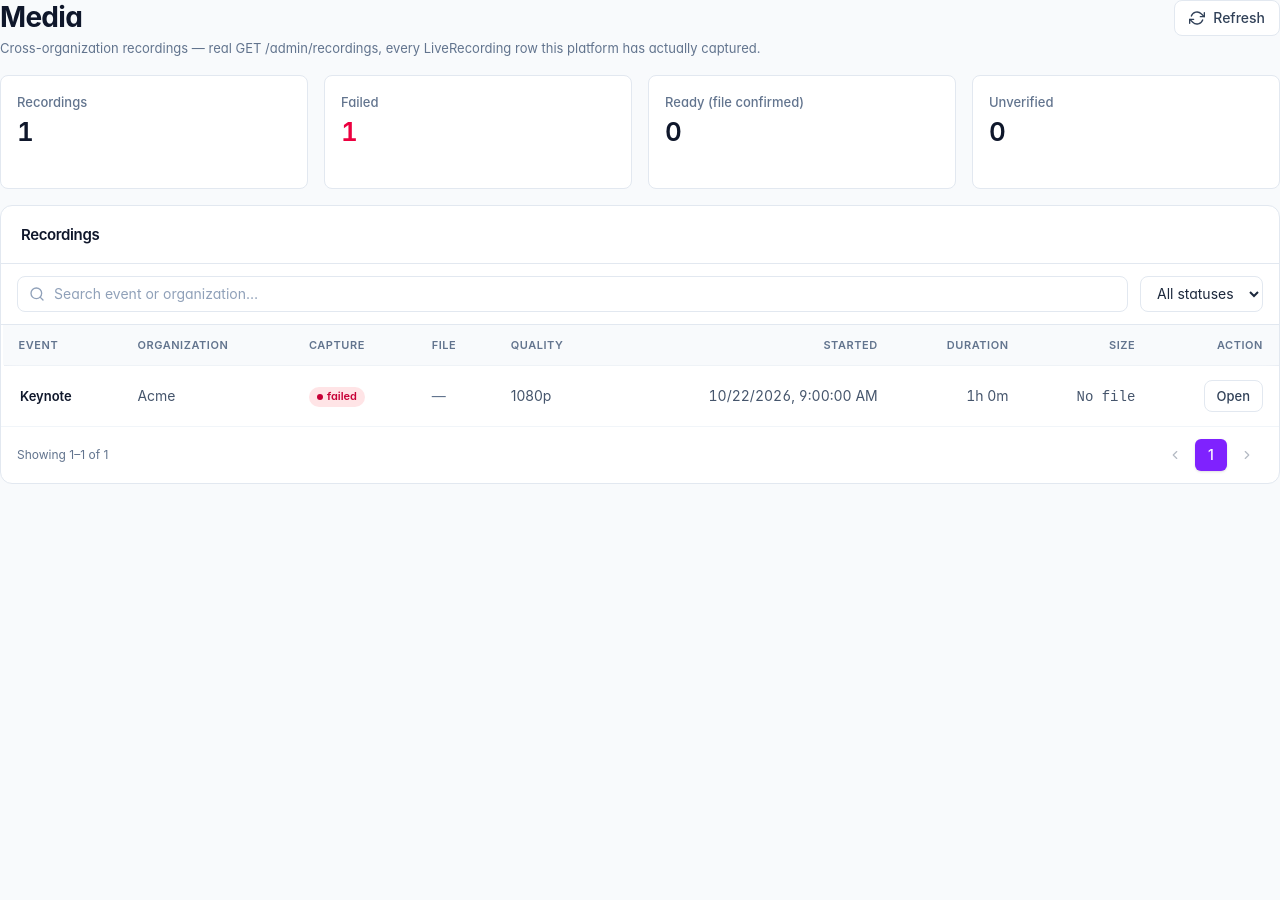
Test: the recording error box › leaves the sections after it rendered
Click the button with aria-label "Open recording" at (1233, 396), box [1204,380,1263,412]
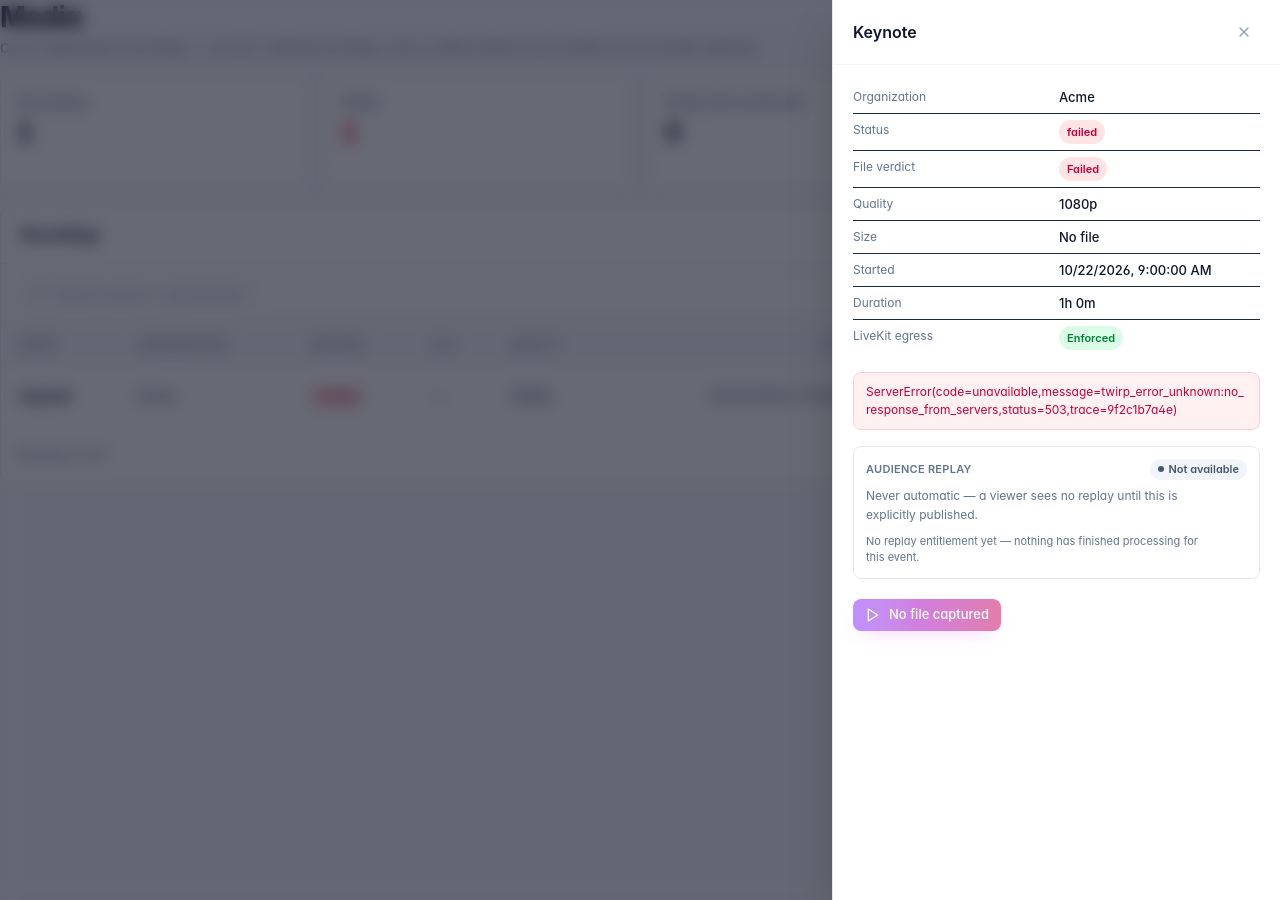
Expected: the text "ServerError(code=unavailable,message=twirp_error_unknown:no_response_from_servers,status=503,trace=9f2c1b7a4e)" is shown, [866,384,1244,417]
Expected: the text "Organization" is shown, [853,89,926,104]
Expected: the text "File verdict" is shown, [853,159,915,174]
